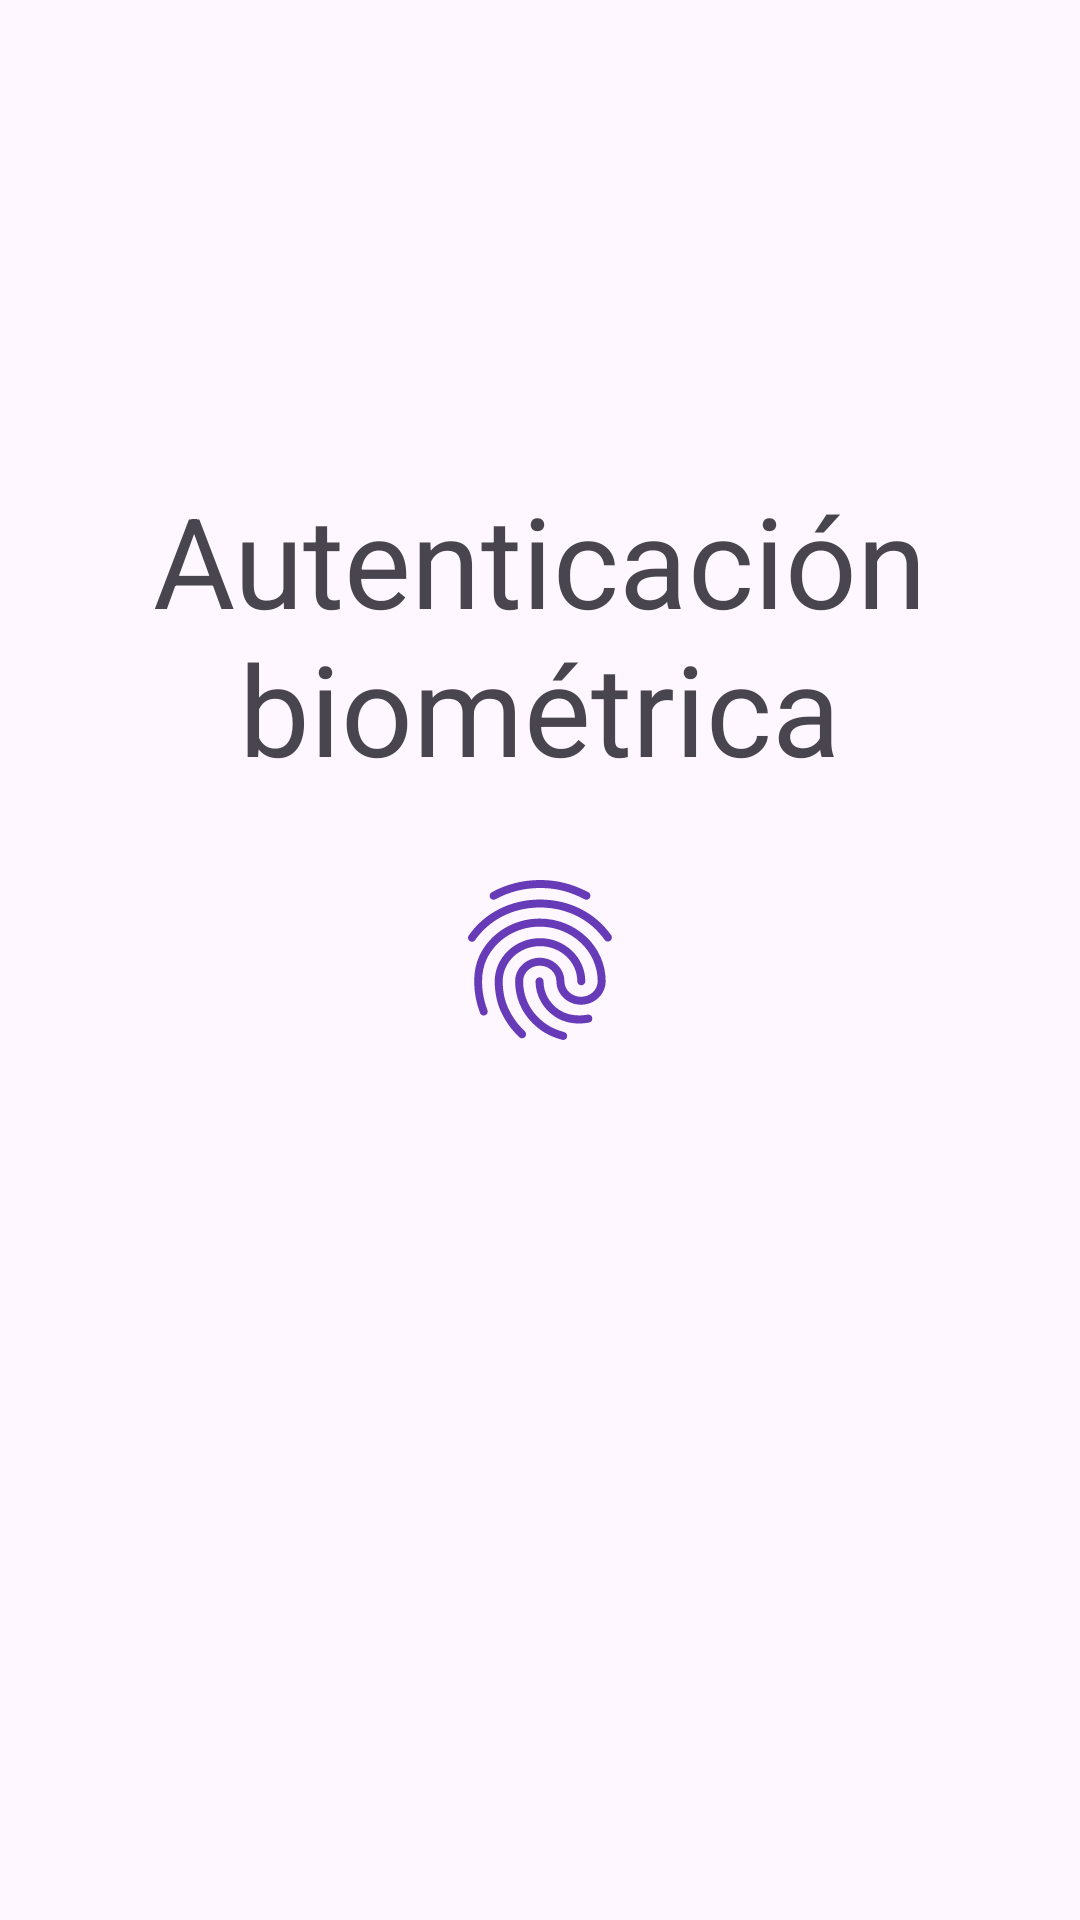

Point at icon controls on the screen. Image size 1080 x 1920, points as (x,y).
fingerprint: (540,960)
